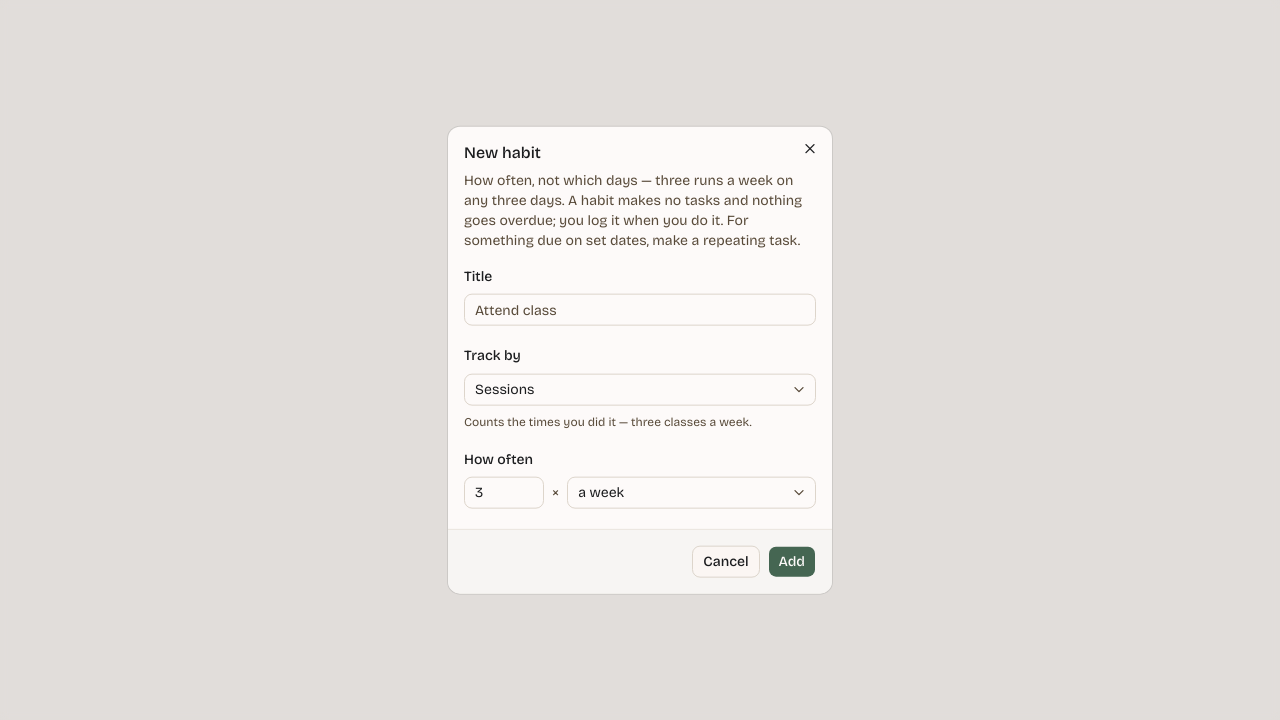
Scenario: HabitDialog validation › says a session is a whole thing
Replace the text in the number field labelled "How often" with "1.5" at (504, 492), box [464, 476, 544, 508]
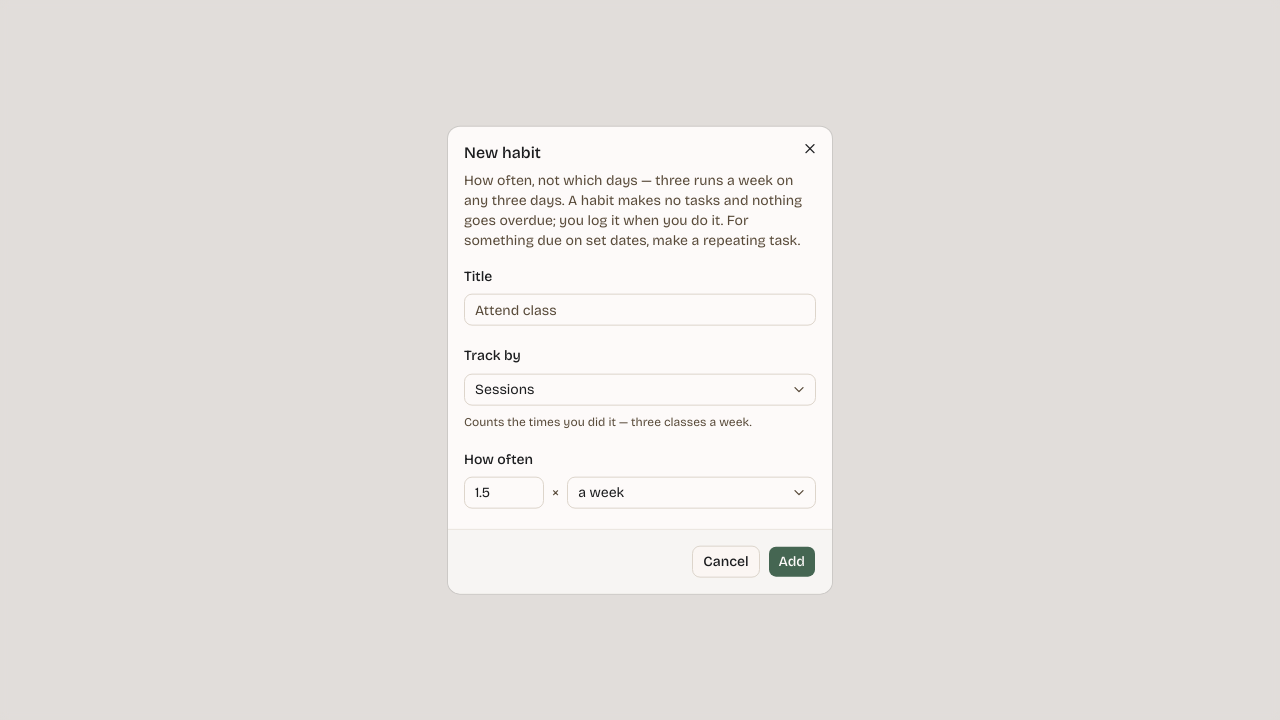
Click the button "Add" at (792, 561), box [768, 545, 816, 577]
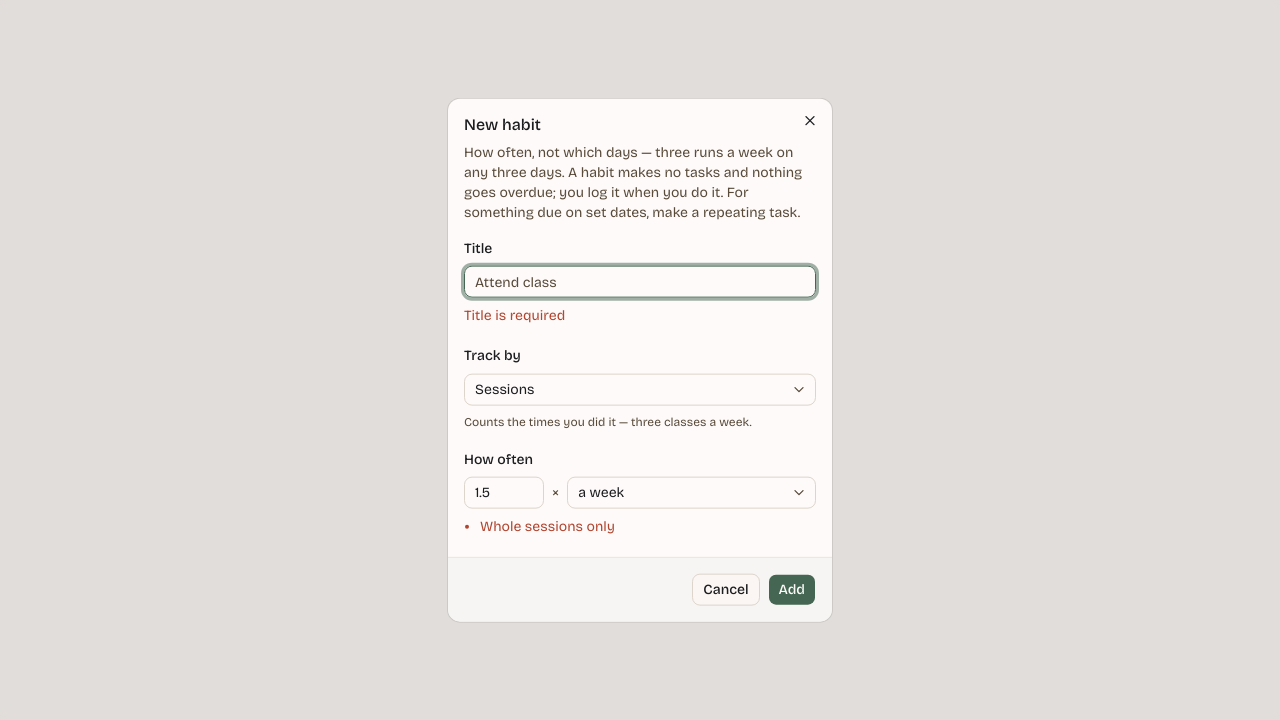
Now the list item "Whole sessions only" is shown, box [480, 517, 615, 534]
